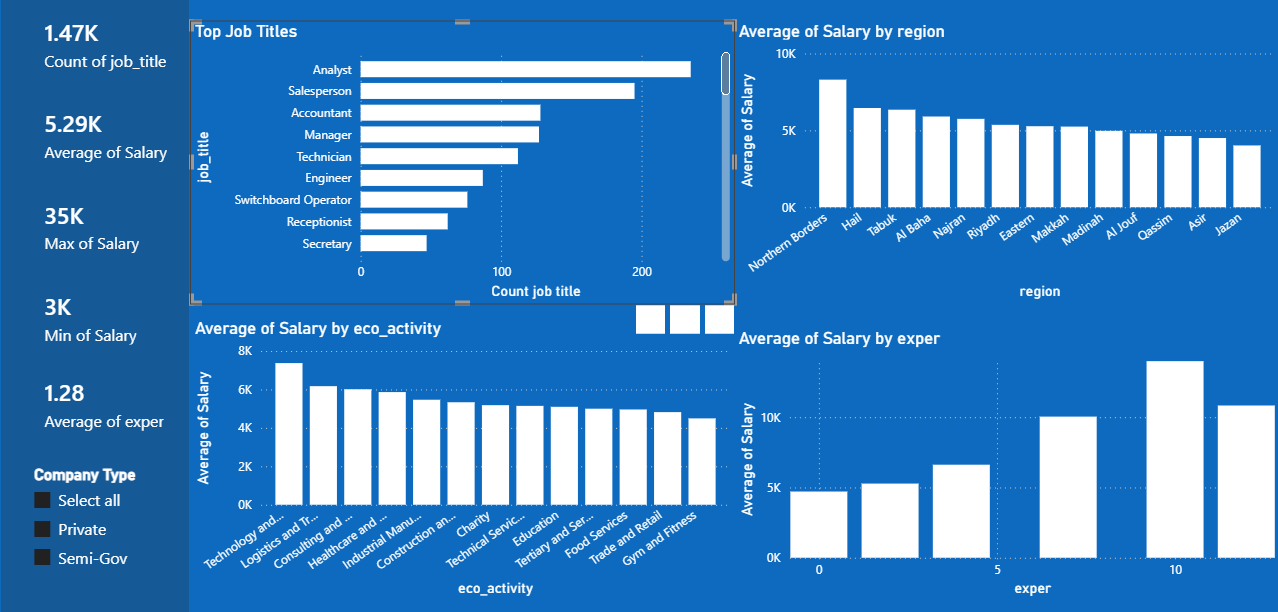

The page's visual inventory and layout, read from the dashboard file:
{"tool":"powerbi","page":{"name":"Page ١","canvas":[1280,720],"ordinal":0},"visuals":[{"type":"clusteredBarChart","title":"Top Job Titles","fields":{"Category":["saudi_jobs_cleaned.job_title"],"Y":["CountNonNull(saudi_jobs_cleaned.job_title)"]},"box":[190,22.5,545,283.8],"z":0},{"type":"clusteredColumnChart","fields":{"Category":["saudi_jobs_cleaned.region"],"Y":["Avg(saudi_jobs_cleaned.Salary)"]},"box":[733.8,22.5,546.2,283.8],"z":1000},{"type":"clusteredColumnChart","fields":{"Y":["Avg(saudi_jobs_cleaned.Salary)"],"Category":["saudi_jobs_cleaned.exper"]},"box":[733.8,330,546.2,273.8],"z":2000},{"type":"clusteredColumnChart","fields":{"Category":["saudi_jobs_cleaned.eco_activity"],"Y":["Avg(saudi_jobs_cleaned.Salary)"]},"box":[190,320,545,283.8],"z":3000},{"type":"shape","box":[-0.3,0,190,720],"z":3500},{"type":"cardVisual","fields":{"Data":["CountNonNull(saudi_jobs_cleaned.job_title)"]},"box":[21.7,0,295,91.2],"z":4000},{"type":"cardVisual","fields":{"Data":["Max(saudi_jobs_cleaned.Salary)"]},"box":[21.7,182.5,295,91.2],"z":5000},{"type":"cardVisual","fields":{"Data":["Avg(saudi_jobs_cleaned.exper)"]},"box":[21.7,360,295,91.2],"z":6000},{"type":"cardVisual","fields":{"Data":["Avg(saudi_jobs_cleaned.Salary)"]},"box":[21.7,91.2,296.2,91.2],"z":7000},{"type":"slicer","fields":{"Values":["saudi_jobs_cleaned.comp_type_label"]},"box":[21.7,462.5,140,118.8],"z":8000},{"type":"cardVisual","fields":{"Data":["Min(saudi_jobs_cleaned.Salary)"]},"box":[21.7,273.8,295,91.2],"z":9000}]}

Visuals, with their boxes on the page's 1280x720 design canvas (x1, y1, x2, y2). These are canvas units, not pixel positions in the 1278x612 screenshot, which may show the page scaled, cropped or inside an application window:
"Top Job Titles" clusteredBarChart: box(190, 22, 735, 306)
clusteredColumnChart - saudi_jobs_cleaned.region x Avg(saudi_jobs_cleaned.Salary): box(734, 22, 1280, 306)
clusteredColumnChart - Avg(saudi_jobs_cleaned.Salary) x saudi_jobs_cleaned.exper: box(734, 330, 1280, 604)
clusteredColumnChart - saudi_jobs_cleaned.eco_activity x Avg(saudi_jobs_cleaned.Salary): box(190, 320, 735, 604)
shape: box(0, 0, 190, 720)
cardVisual - CountNonNull(saudi_jobs_cleaned.job_title): box(22, 0, 317, 91)
cardVisual - Max(saudi_jobs_cleaned.Salary): box(22, 182, 317, 274)
cardVisual - Avg(saudi_jobs_cleaned.exper): box(22, 360, 317, 451)
cardVisual - Avg(saudi_jobs_cleaned.Salary): box(22, 91, 318, 182)
slicer - saudi_jobs_cleaned.comp_type_label: box(22, 462, 162, 581)
cardVisual - Min(saudi_jobs_cleaned.Salary): box(22, 274, 317, 365)
